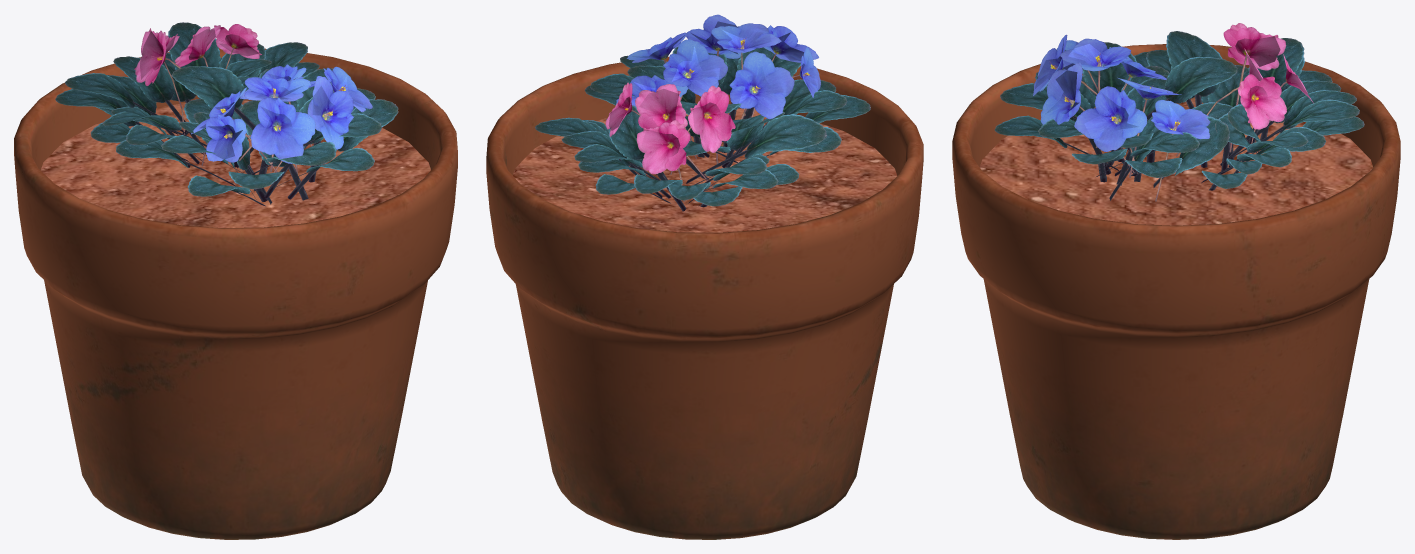
The model's file is maceta_violetas.obj.
The picture shows the model from 3 angles, left to right: view 1: azimuth 30°, elevation 25°; view 2: azimuth 150°, elevation 25°; view 3: azimuth 270°, elevation 25°; orthographic projection. The views are drawn at different scales.
Visible parts, largest first — view 1: maceta_violetas; view 2: maceta_violetas; view 3: maceta_violetas.
Boxes of the visible parts, x1,y1,x2,y2 form: maceta_violetas: [14, 22, 457, 539]; maceta_violetas: [486, 14, 923, 539]; maceta_violetas: [952, 23, 1400, 539].
Bounding box in the file's own units: 0.3521 × 0.3895 × 0.3521.
